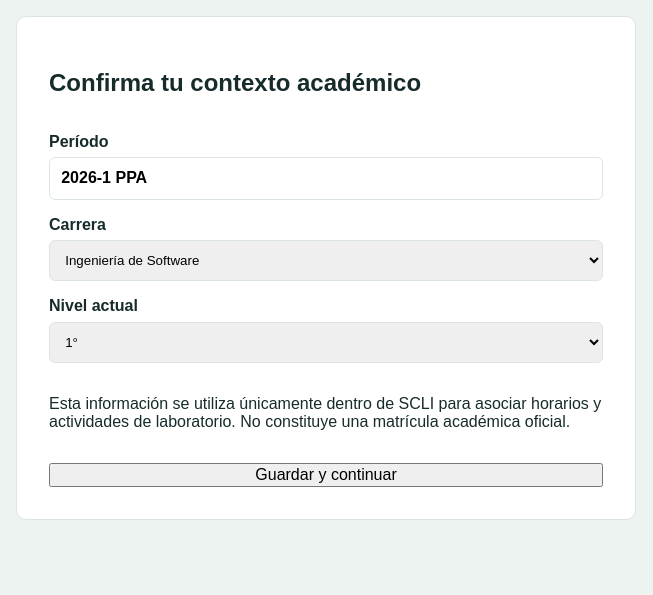
StudentContextGate › muestra mensaje genérico si el guardado falla con excepción no estándar
Check: the heading "Confirma tu contexto académico" is shown, box [49,69,421,96]
Click the button "Guardar y continuar".
click(326, 475)  # box [49,463,603,487]
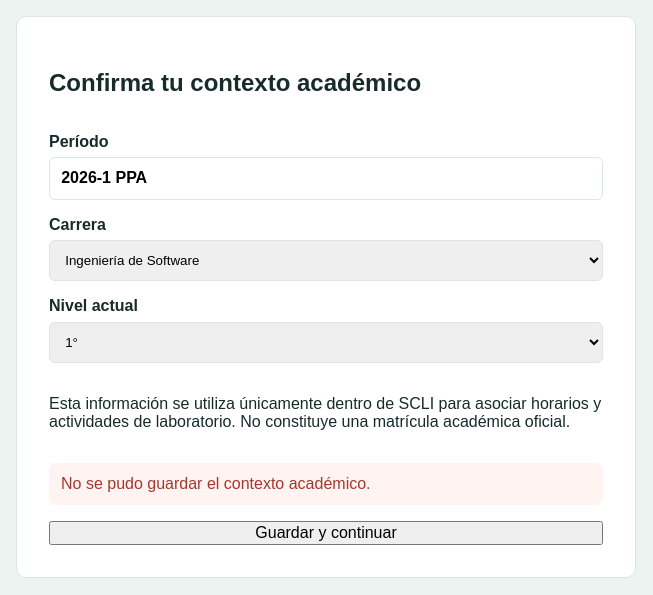
Check: the message reads "No se pudo guardar el contexto académico.", box [61,475,370,492]
